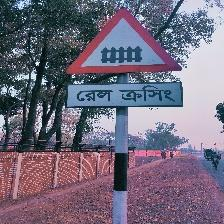Rail-crossing: (65, 6, 184, 111)
